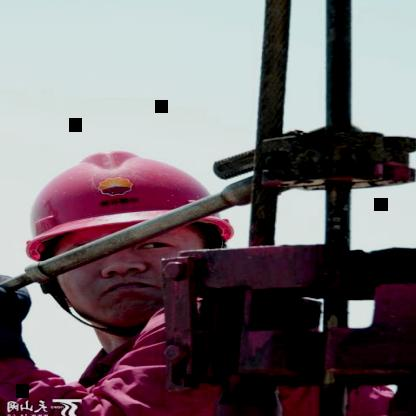helmet: (5, 133, 259, 325)
